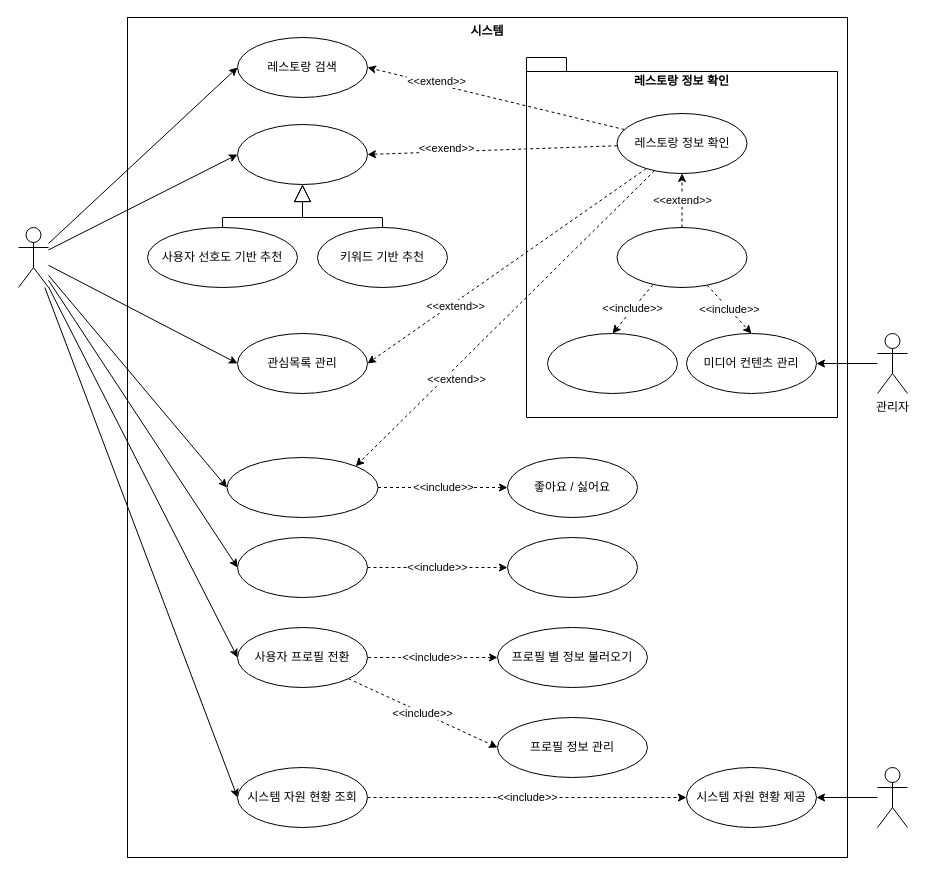
The diagram is 929 pixels wide and 875 high, and some of its shapes have lost their labels. The centre of each missing label's shape, as x and y in pixels:
webOS: (x=892, y=797)
개인 데이터 불러오기: (x=302, y=567)
레스토랑 추천: (x=302, y=154)
로그인: (x=572, y=567)
미디어 컨텐츠 재생: (x=681, y=257)
방문기록 및 선호도 관리: (x=302, y=487)
사용자: (x=33, y=257)
재생 기록 저장: (x=612, y=363)
